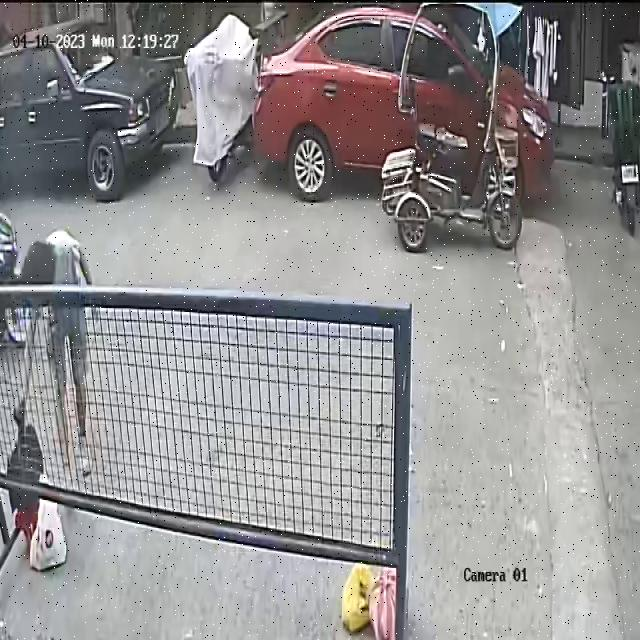garbage_dumping: (5, 419, 66, 568), (340, 558, 400, 640)
